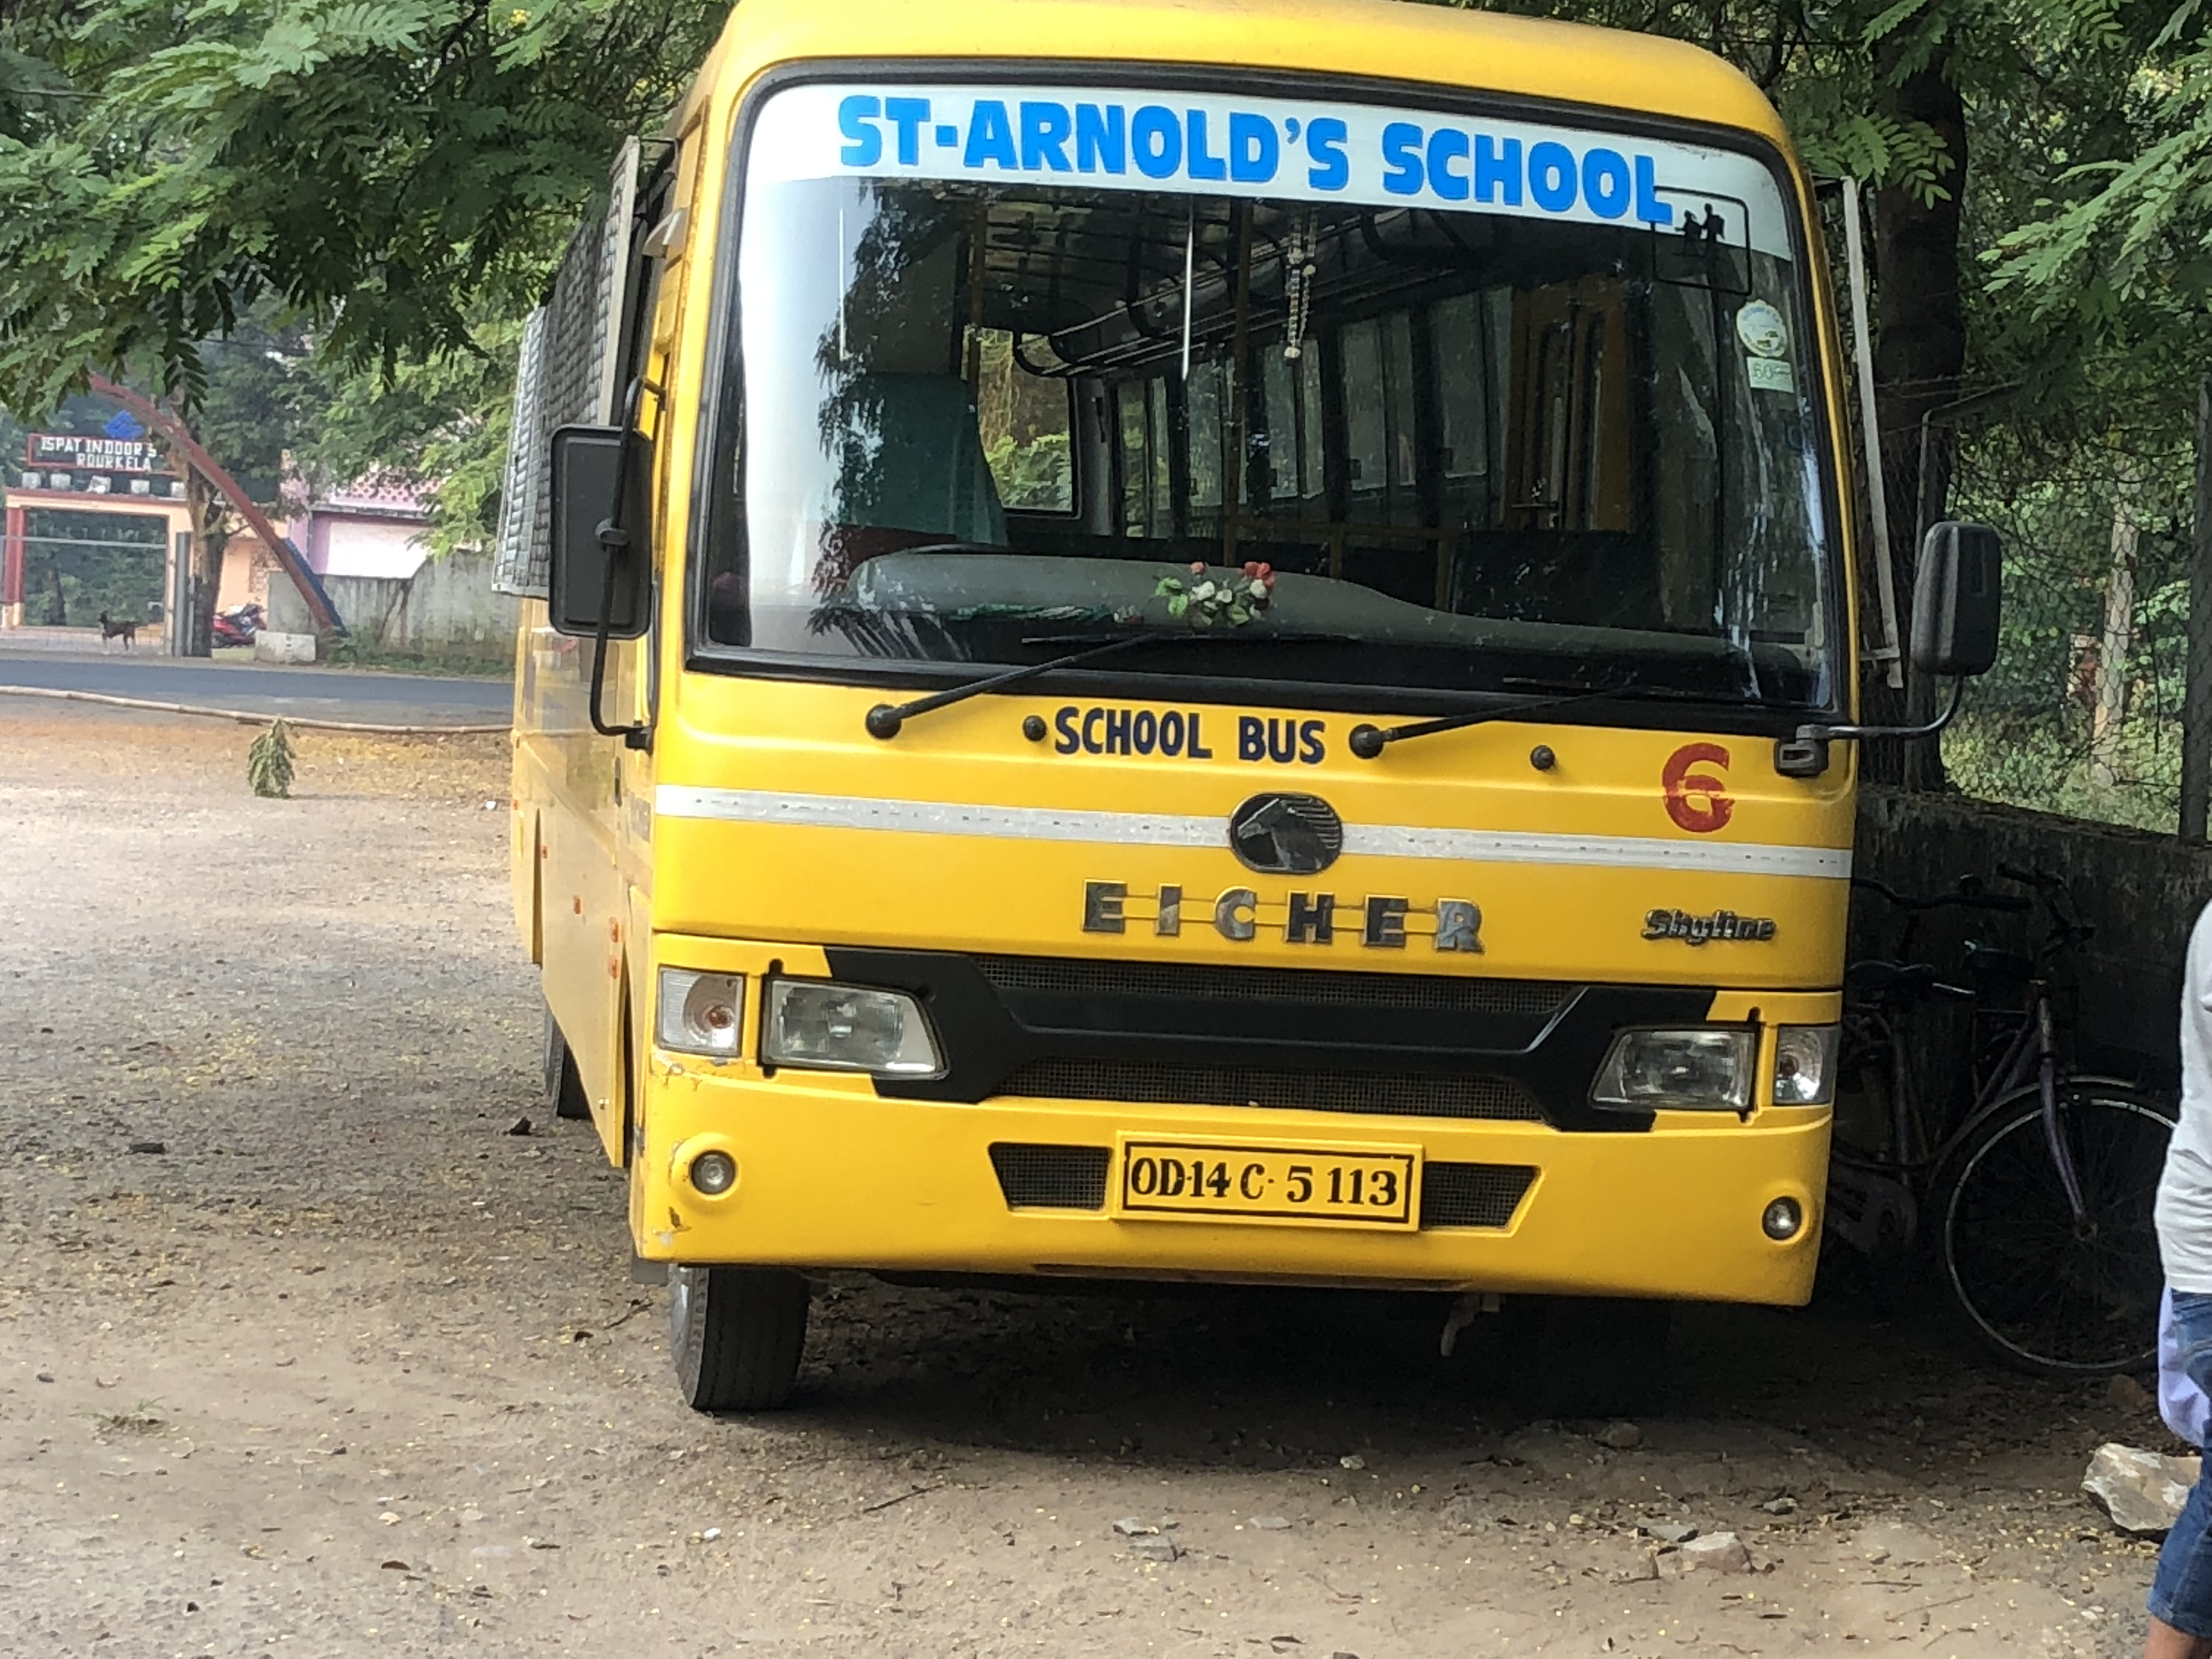licenseplate: (1111, 1129, 1424, 1239)
